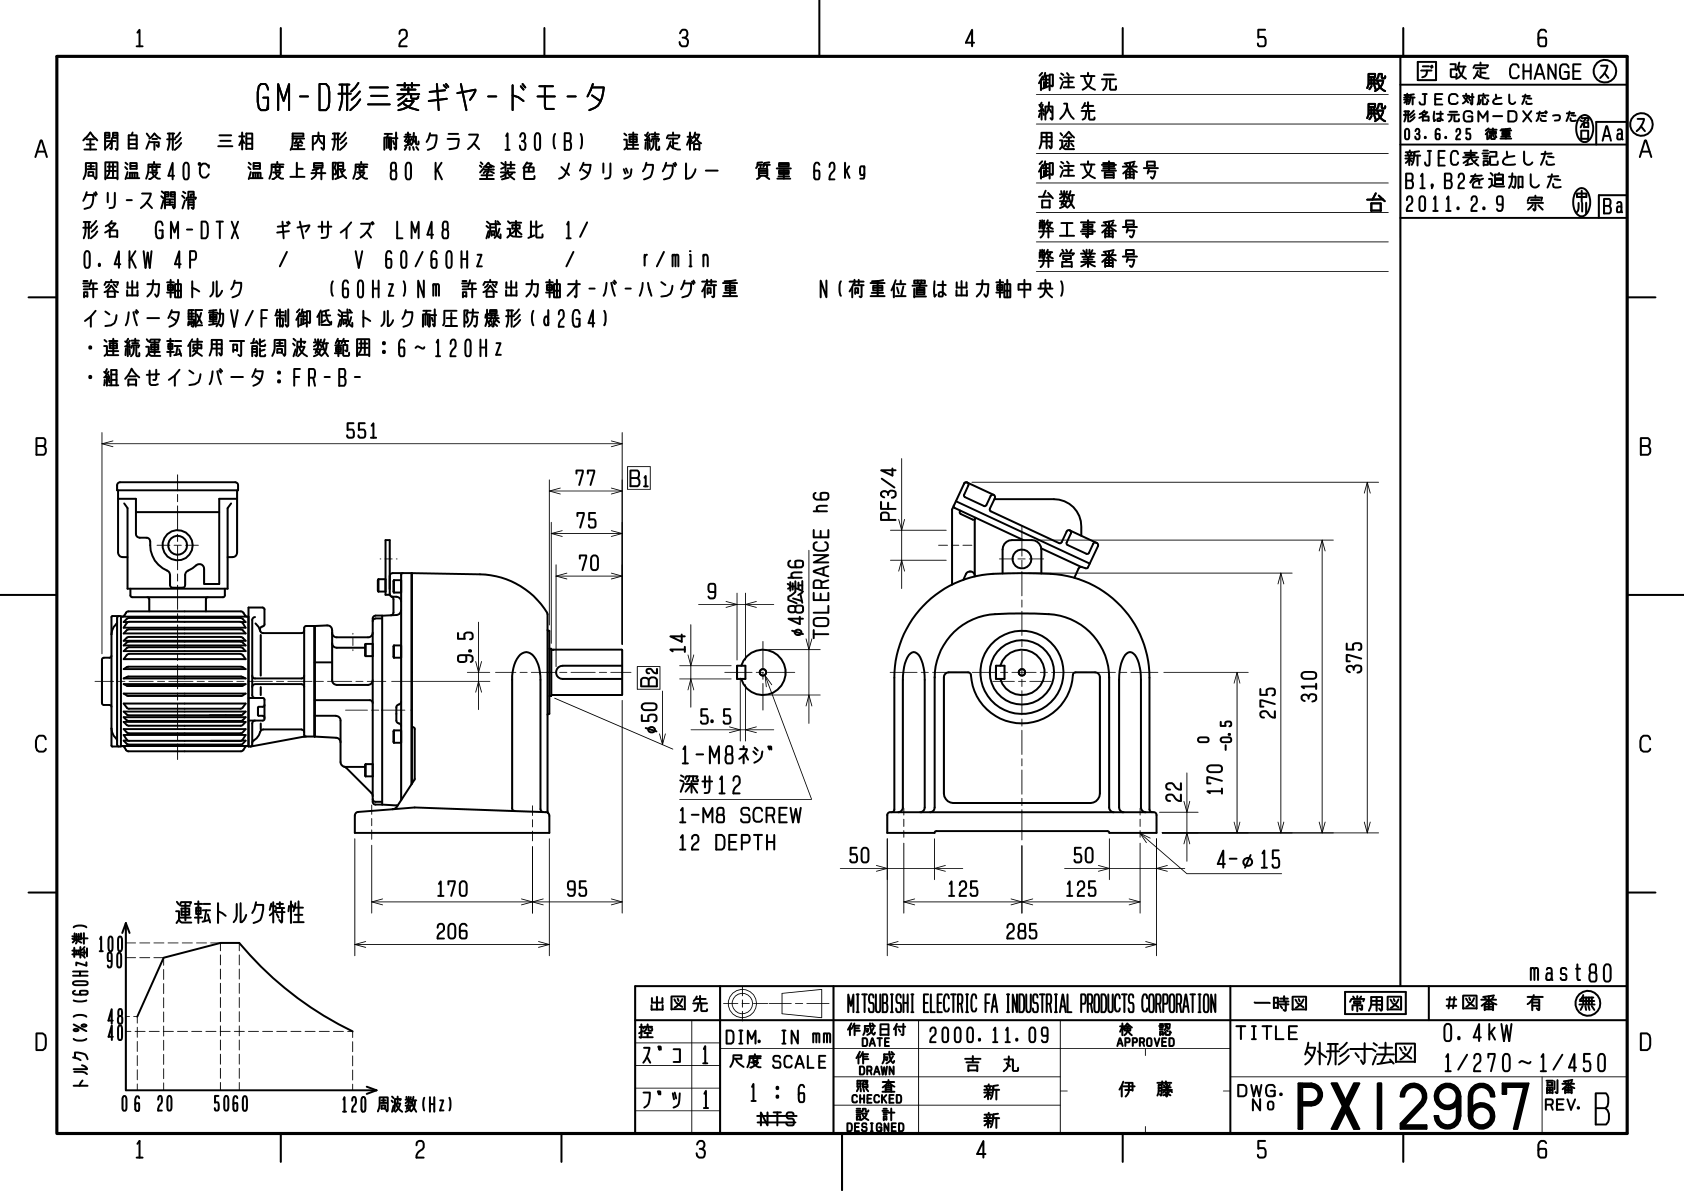GM_D_VF制御屋内_三相_脚: (77, 402, 1389, 967)
